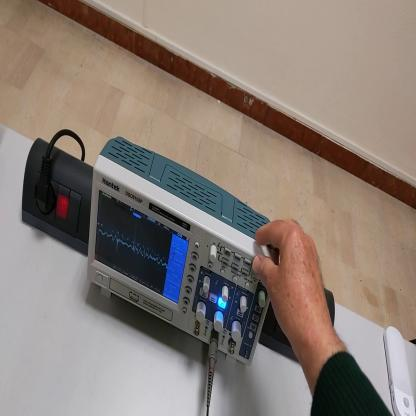hand: (254, 219, 330, 344)
oscilloscope: (87, 136, 280, 367)
socket: (21, 138, 93, 255)
